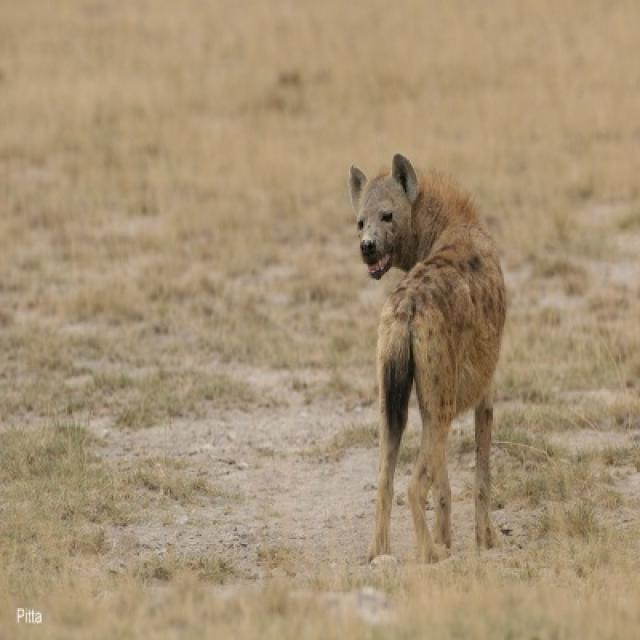hyena: (349, 154, 506, 562)
